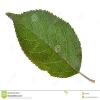Apple leaf: (3, 7, 82, 80)
